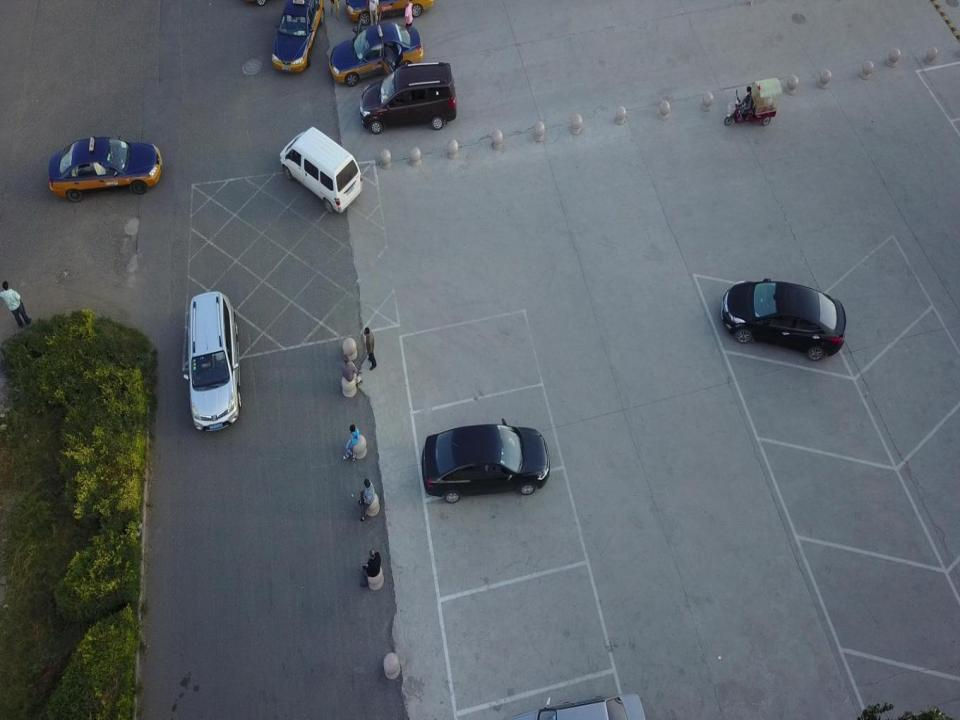car: (418, 418, 554, 503), (722, 278, 846, 362), (48, 138, 164, 202), (330, 24, 426, 84), (509, 692, 647, 720), (272, 0, 323, 74)
van: (184, 290, 241, 433), (279, 126, 363, 213), (360, 62, 457, 135)
